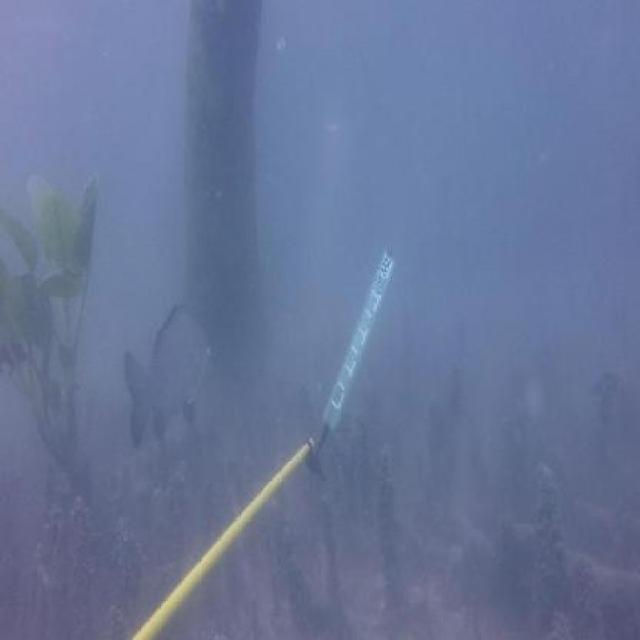acanthopagrus_palmaris: (124, 299, 222, 456)
